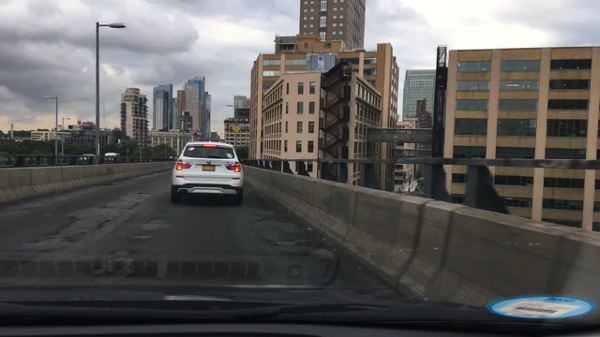car: (170, 141, 245, 206), (104, 153, 122, 162), (79, 154, 96, 162)
traffic sign: (231, 124, 241, 133)
